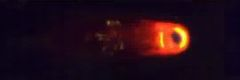keyhole: (170, 28, 183, 45)
